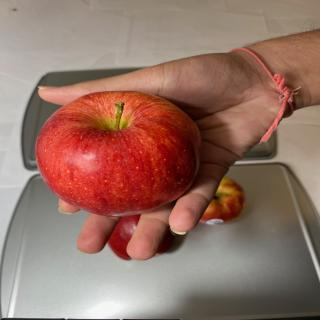Apple: (35, 90, 202, 217), (107, 214, 174, 260), (198, 176, 246, 225)
